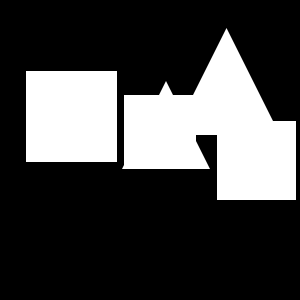circle: (26, 71, 117, 162), (217, 121, 296, 200), (124, 95, 196, 167)
triangle: (173, 28, 280, 135), (122, 81, 210, 169)
